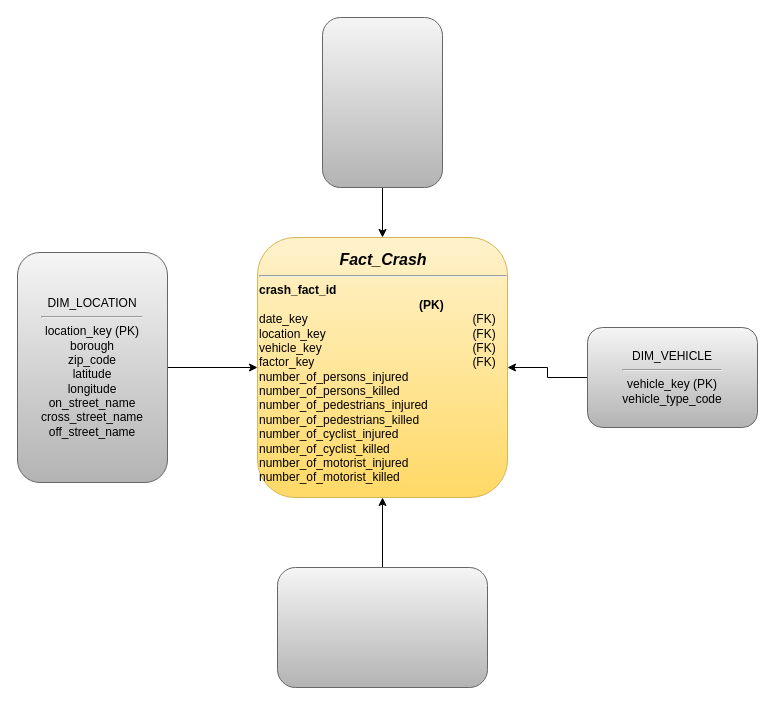
Some shapes in this 775 by 705 pixel diagram are drawn without their labels. Each missing label, with the box of its shape:
DIM_CONTRIBUTING_FACTOR factor_key (PK) contributing_factor: (276, 566, 488, 688)
DIM_DATE date_key (PK) full_date year month day day_of_week: (322, 16, 442, 188)
